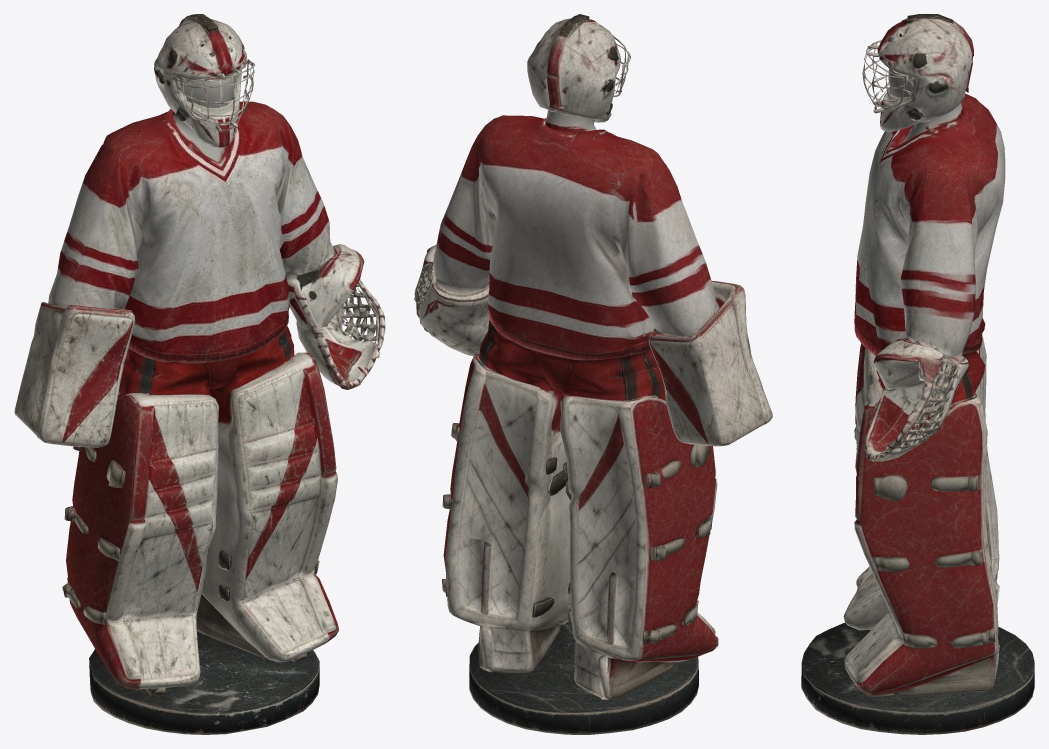
File: skyways-d-hk-goalie.glb
3 views of the same model, side by side, from view 1: azimuth 30°, elevation 25°; view 2: azimuth 150°, elevation 25°; view 3: azimuth 270°, elevation 25° (orthographic).
Visible parts, largest first — view 1: skyways-d-hk-goalie; view 2: skyways-d-hk-goalie; view 3: skyways-d-hk-goalie.
Boxes of the visible parts, box(x1,y1,x2,y2) form: skyways-d-hk-goalie: box(14, 14, 385, 734); skyways-d-hk-goalie: box(414, 14, 772, 734); skyways-d-hk-goalie: box(801, 14, 1034, 734).
Size of the model in its own units: 1.07 by 1.95 by 0.6116.
Materials: 1 (1 with a texture image).
